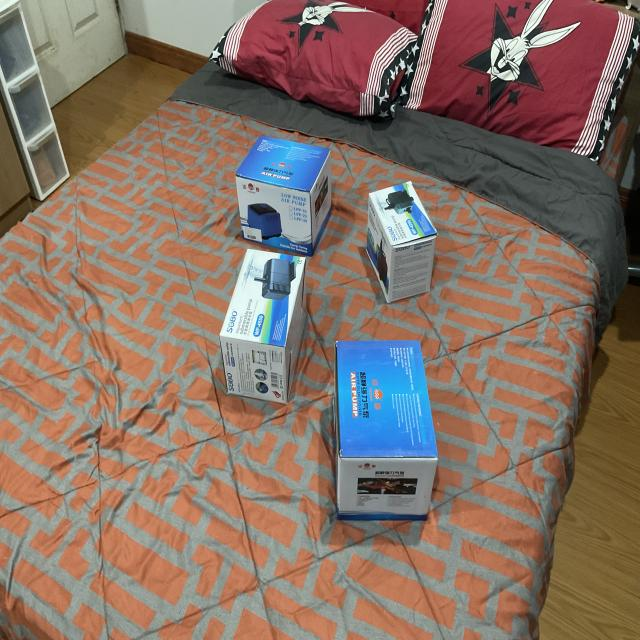SOBO_WP_4200: (208, 224, 308, 397), (356, 152, 438, 296)
YAMANO_LPP_20: (317, 305, 447, 513), (222, 85, 334, 248)
